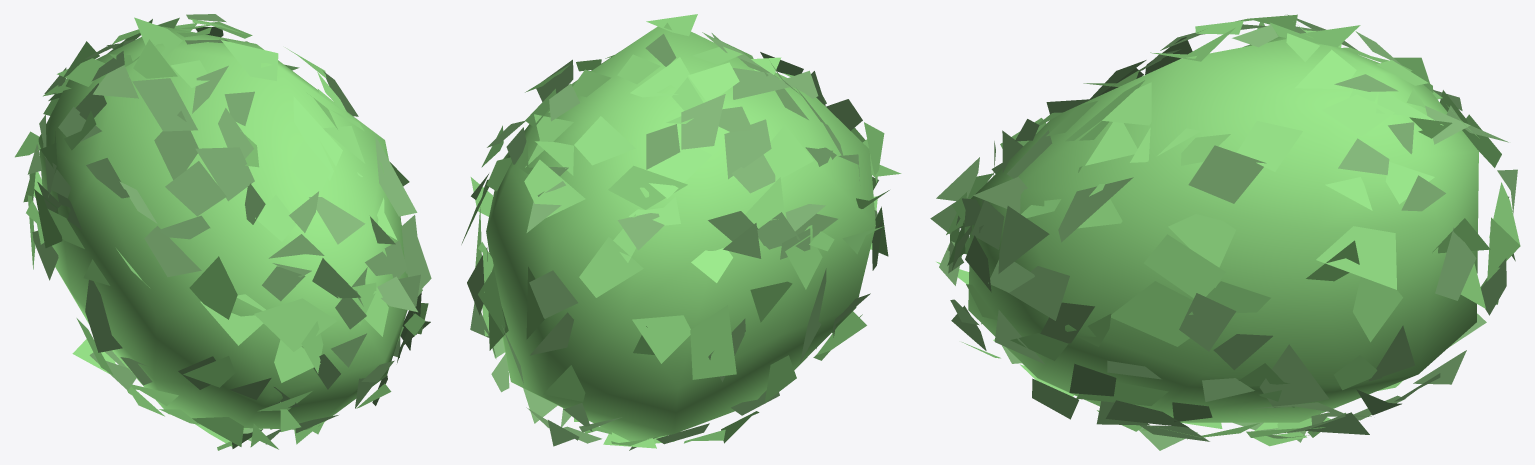
The model's file is bush1.fbx.
The picture shows the model from 3 angles, left to right: view 1: azimuth 30°, elevation 25°; view 2: azimuth 150°, elevation 25°; view 3: azimuth 270°, elevation 25°; orthographic projection. The views are drawn at different scales.
Parts seen in each view (by area): view 1: Cube.001; view 2: Cube.001; view 3: Cube.001.
Boxes of the visible parts, x1,y1,x2,y2 form: Cube.001: [15, 14, 431, 450]; Cube.001: [461, 14, 901, 450]; Cube.001: [930, 14, 1520, 450].
Bounding box in the file's own units: 195 × 223 × 291.
